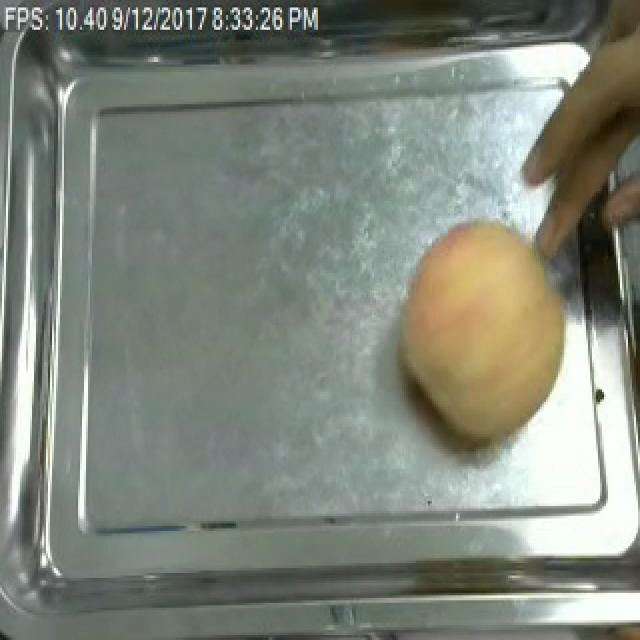Fruit: (388, 208, 588, 452), (510, 0, 640, 263)
